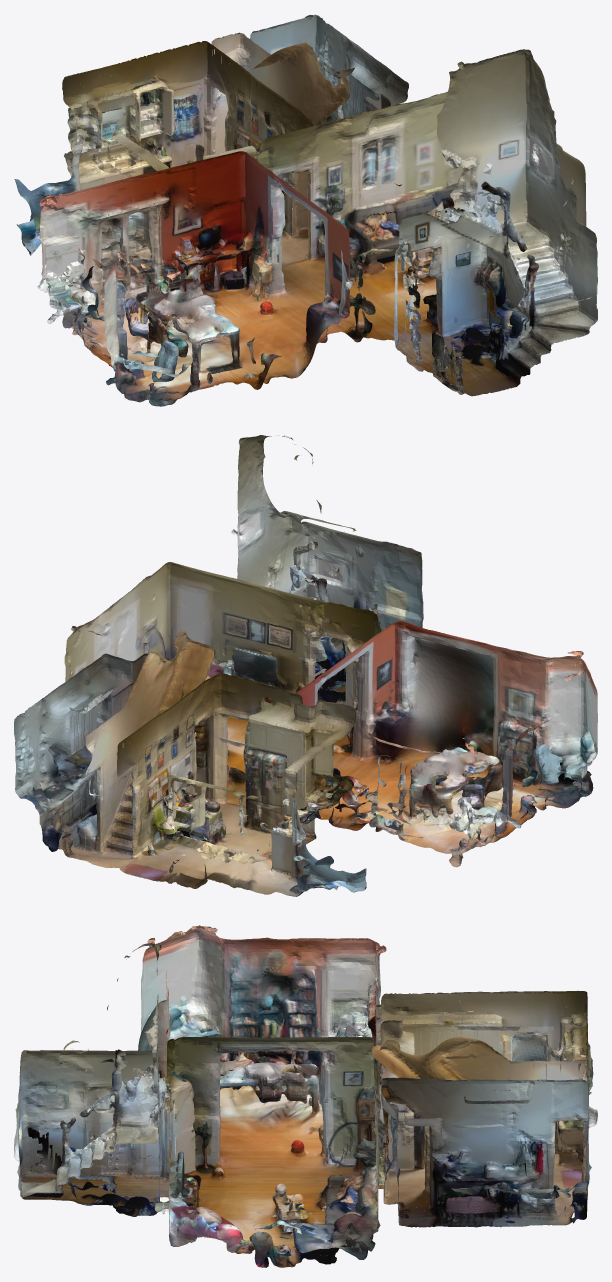
3 views of the same model, one above another, from view 1: azimuth 30°, elevation 25°; view 2: azimuth 150°, elevation 25°; view 3: azimuth 270°, elevation 25° (orthographic). The views are drawn at different scales.
Bounding box in the file's own units: 10.79 × 6.3 × 12.03.
2 materials, 2 textured.
